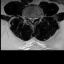CCS_normal: (31, 15, 33, 25)
LFS_normal: (35, 14, 38, 21)
LLS_normal: (33, 14, 35, 22)
RFS_stenosis: (27, 14, 29, 21)
RLS_normal: (29, 15, 31, 23)
